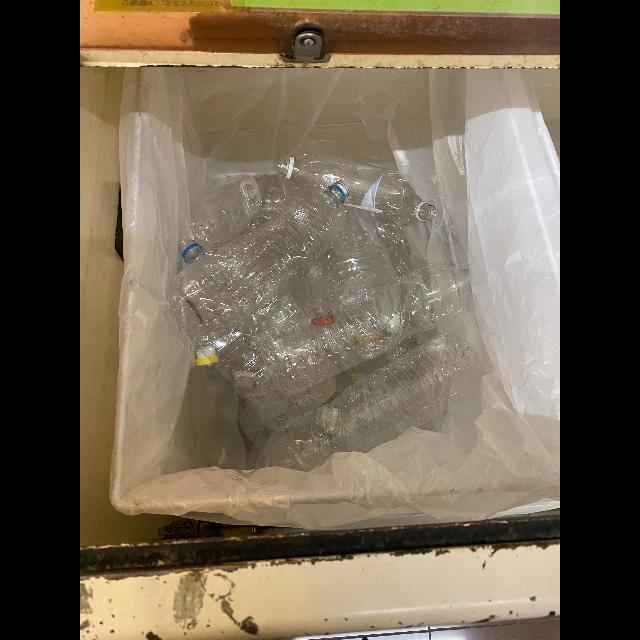plastic_bottle: (166, 180, 350, 348), (259, 264, 473, 390), (316, 332, 482, 449), (280, 154, 416, 214), (190, 174, 262, 242)
